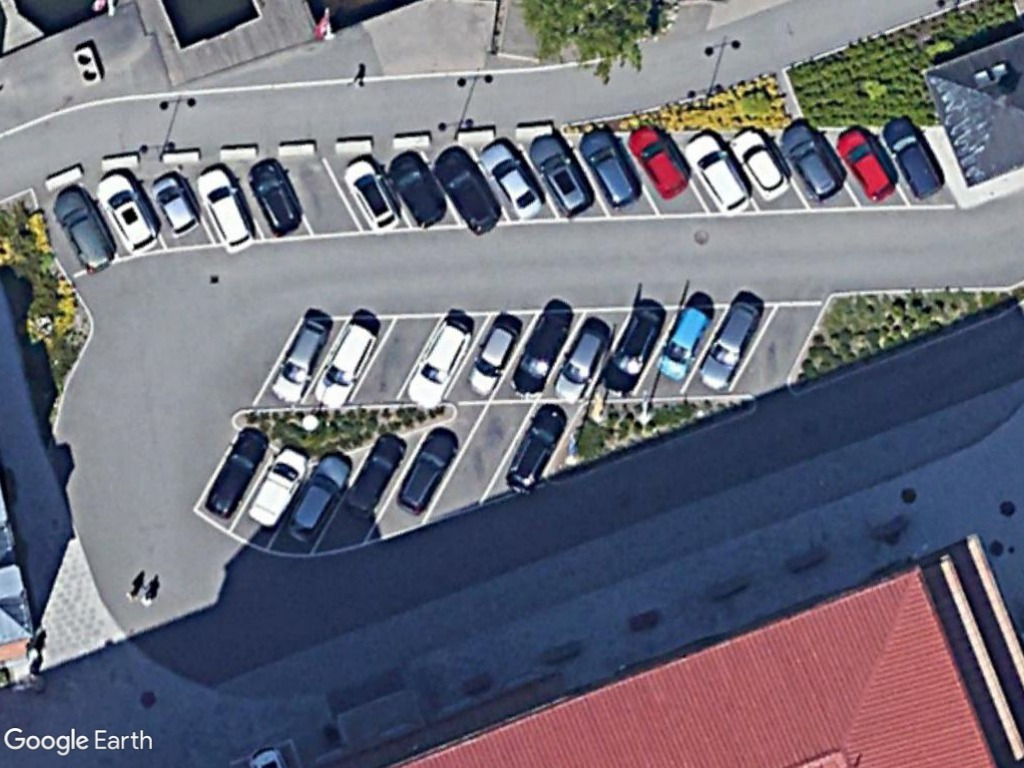car: (279, 441, 359, 543), (398, 310, 477, 411), (309, 316, 387, 415), (428, 141, 506, 237), (47, 179, 121, 280), (524, 123, 599, 222), (595, 295, 669, 395), (694, 295, 762, 399), (266, 315, 338, 409), (679, 127, 750, 222), (200, 428, 272, 521), (342, 431, 411, 528), (504, 302, 575, 395), (504, 404, 572, 501), (243, 438, 312, 533), (877, 110, 946, 204), (392, 426, 463, 517), (480, 130, 547, 226), (780, 117, 850, 204), (94, 170, 162, 259), (625, 116, 692, 204), (195, 160, 256, 256), (385, 141, 451, 229), (572, 126, 636, 214), (834, 117, 899, 203), (458, 312, 519, 402), (731, 120, 797, 203), (648, 296, 714, 379), (341, 153, 407, 234), (552, 320, 610, 408), (250, 153, 306, 236), (140, 169, 205, 240)
